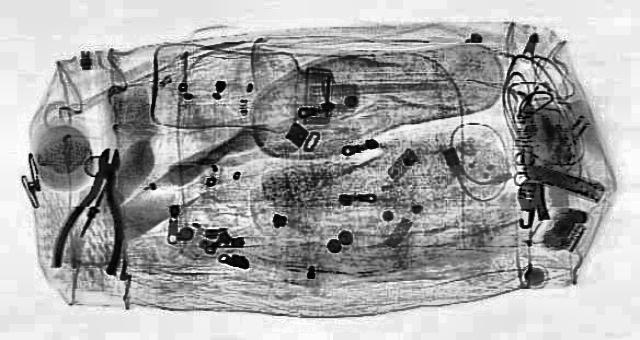Pliers: (48, 146, 144, 274)
